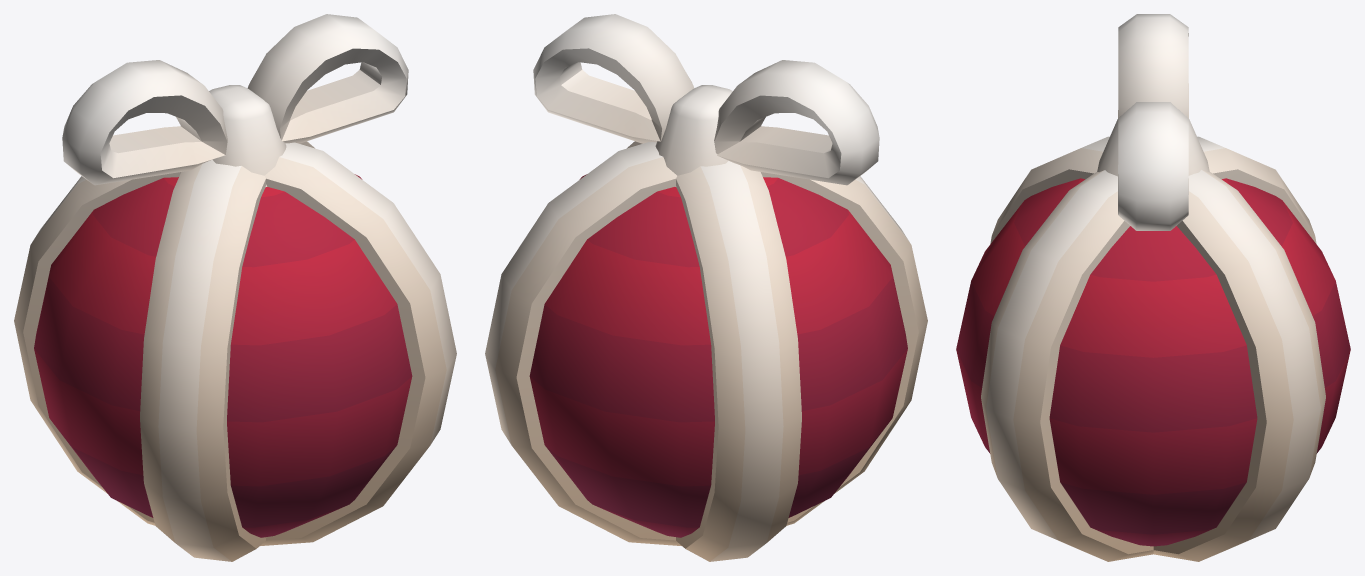
File: present_sphere_A_red.glb
3 views of the same model, side by side, from view 1: azimuth 30°, elevation 25°; view 2: azimuth 150°, elevation 25°; view 3: azimuth 270°, elevation 25° (orthographic). The views are drawn at different scales.
Visible parts, largest first — view 1: present_sphere_A_red; view 2: present_sphere_A_red; view 3: present_sphere_A_red.
Part boxes in pixels (<box>): present_sphere_A_red: <box>14,14,456,561</box>; present_sphere_A_red: <box>485,14,927,561</box>; present_sphere_A_red: <box>956,14,1350,561</box>.
Bounding box in the file's own units: 0.5576 × 0.7501 × 0.5576.
Materials: 1 (1 with a texture image).
